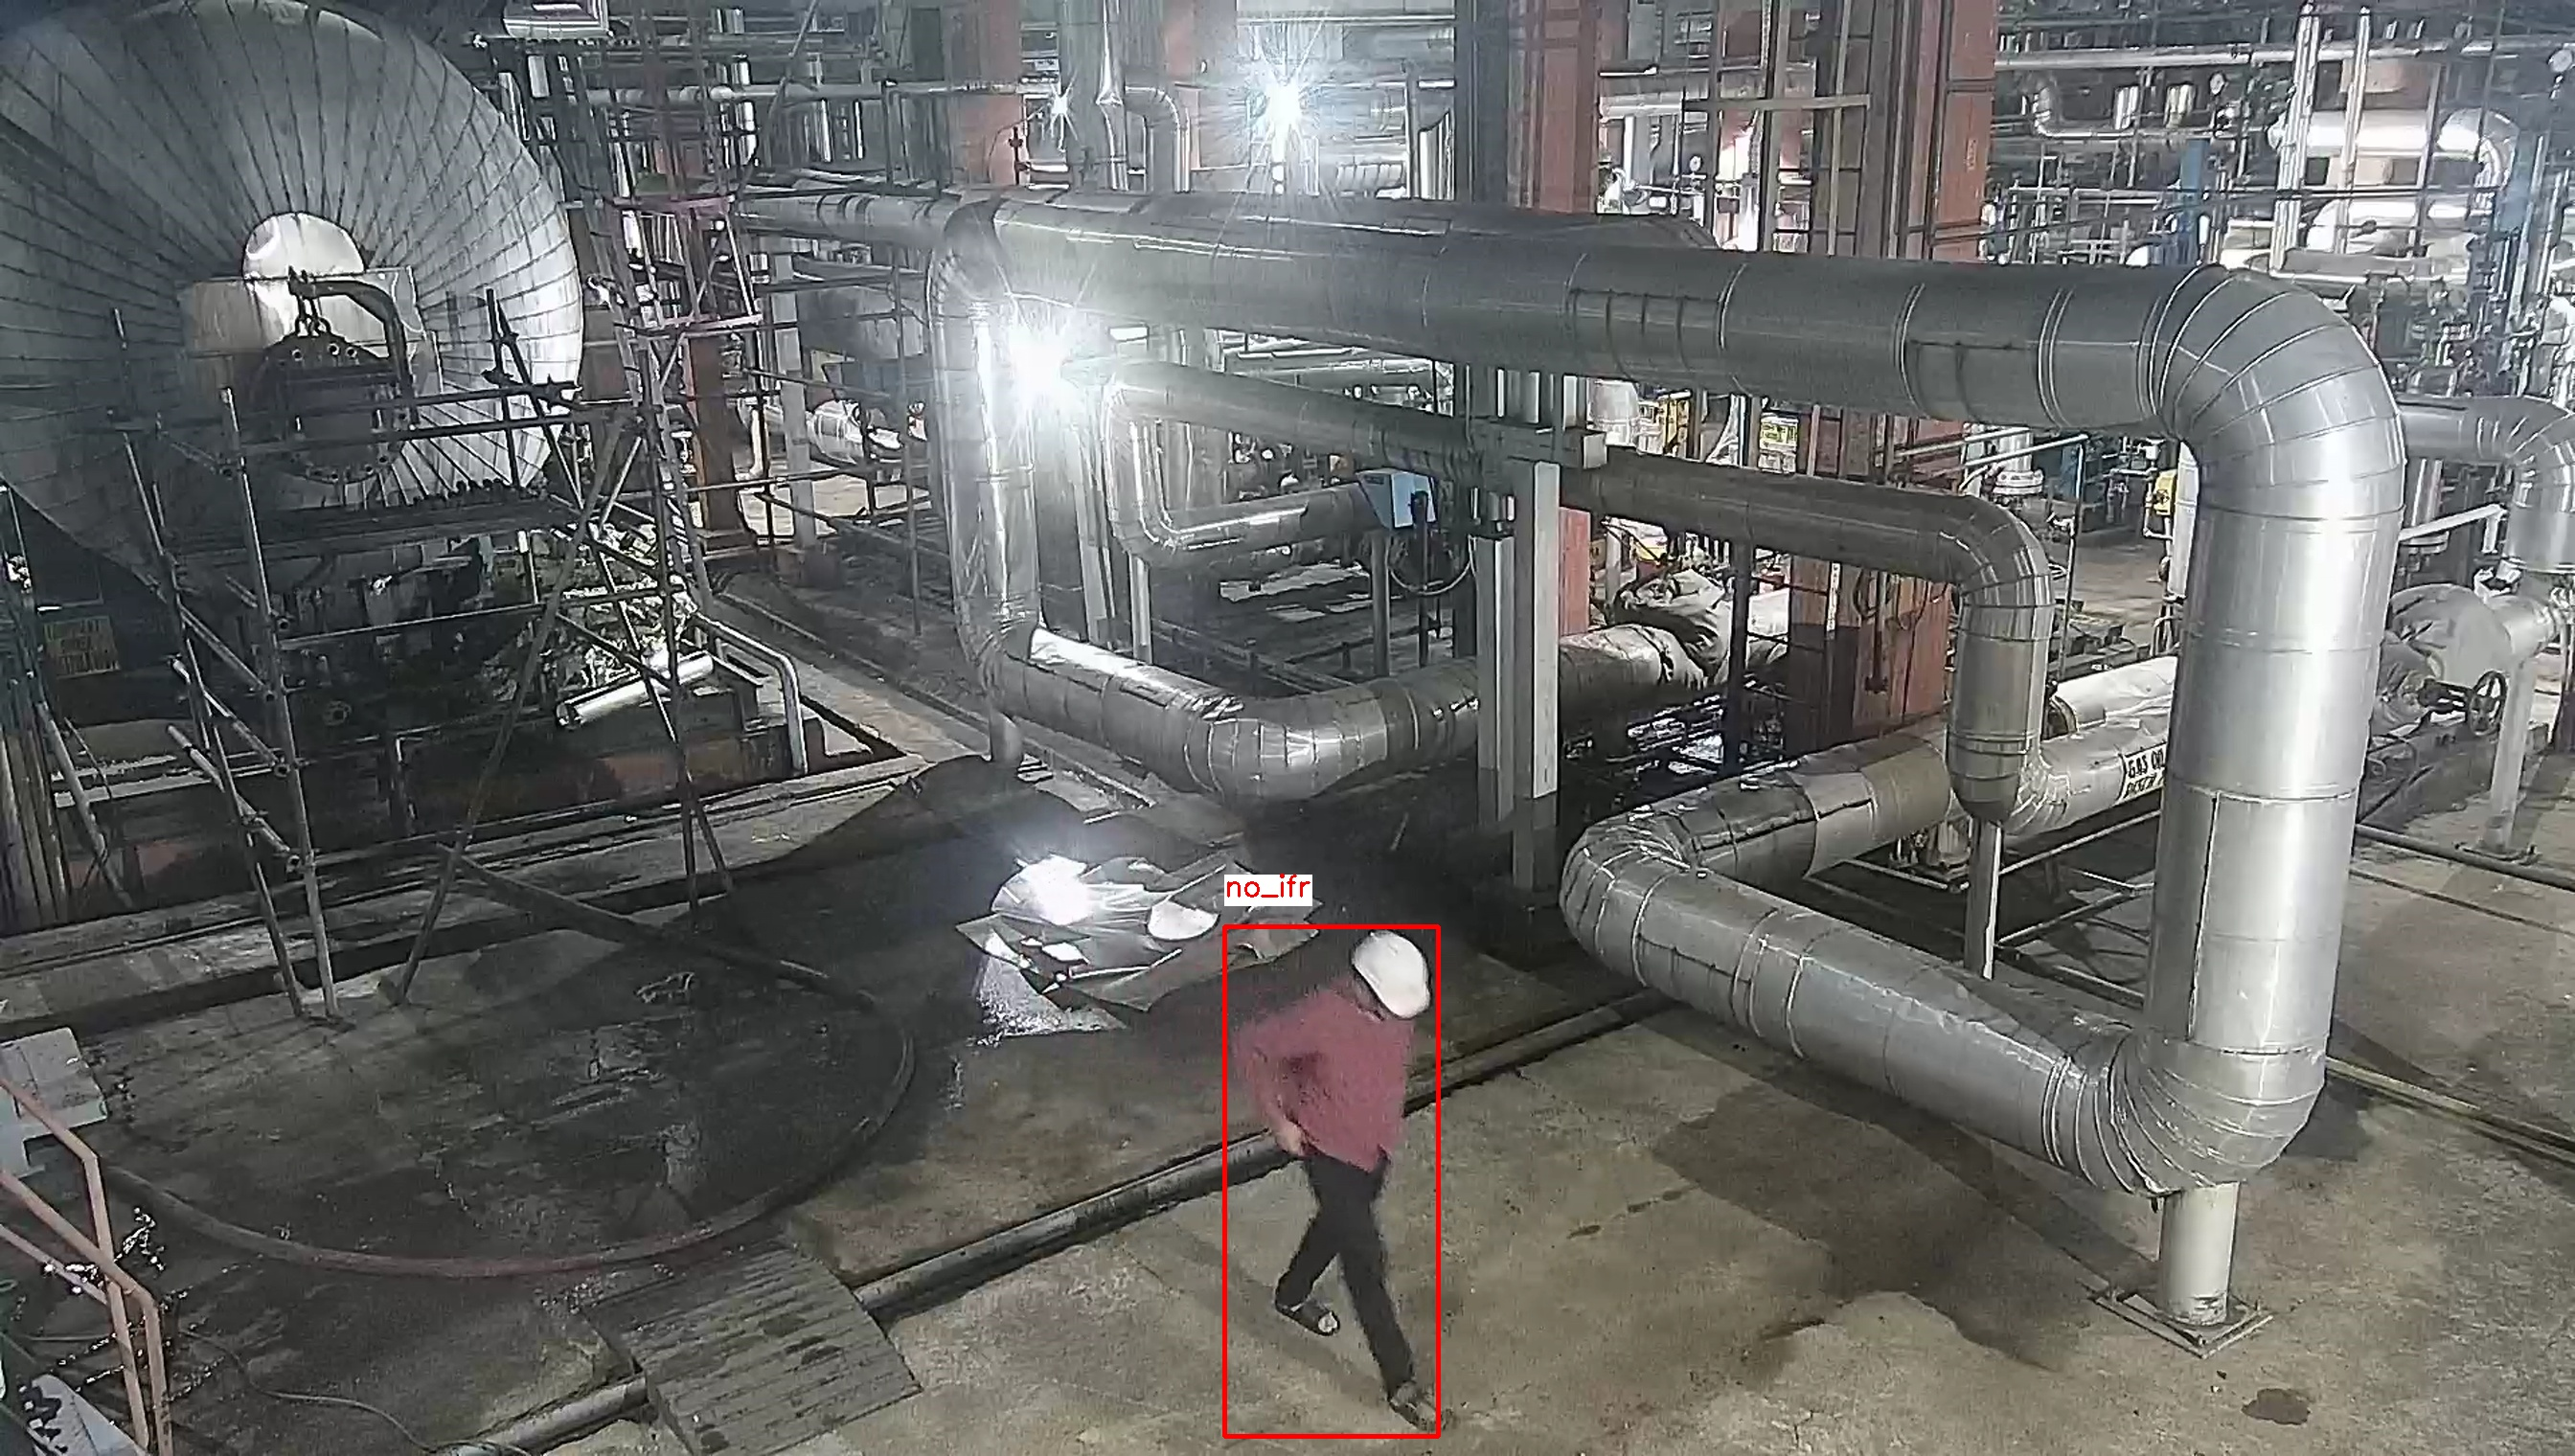Helmets: (1337, 927, 1436, 1030)
